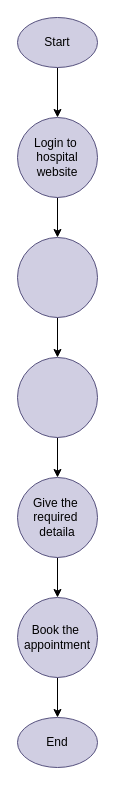
The diagram is 115 pixels wide and 785 high, and some of its shapes have lost their labels. Each missing label, with the centre of its shape:
"Select the doctor" goes at point (57, 397).
"Select the specialist" goes at point (57, 277).
